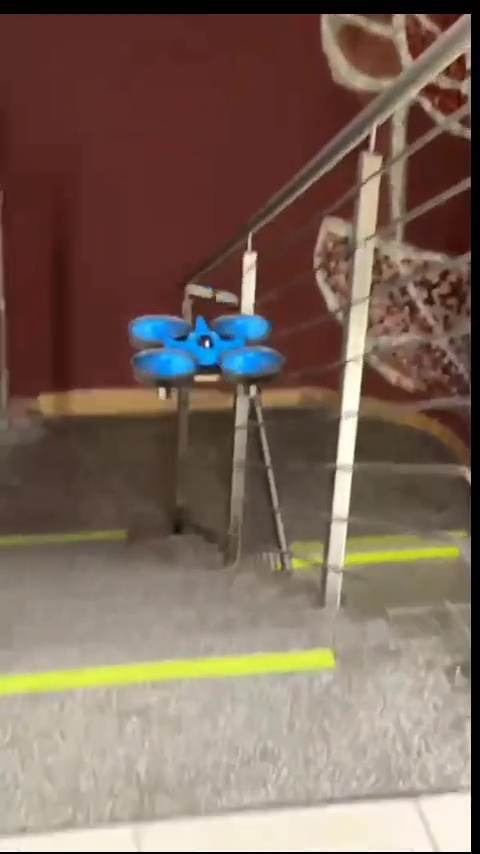drone: (129, 314, 289, 407)
